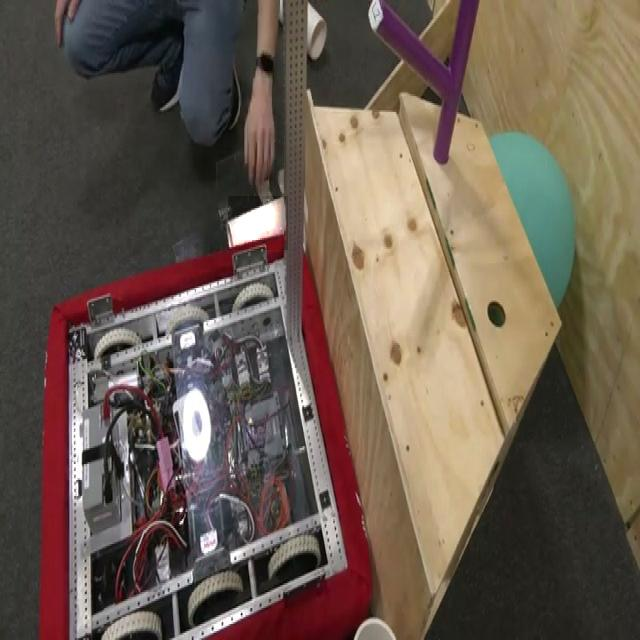Coral: (228, 196, 288, 250)
